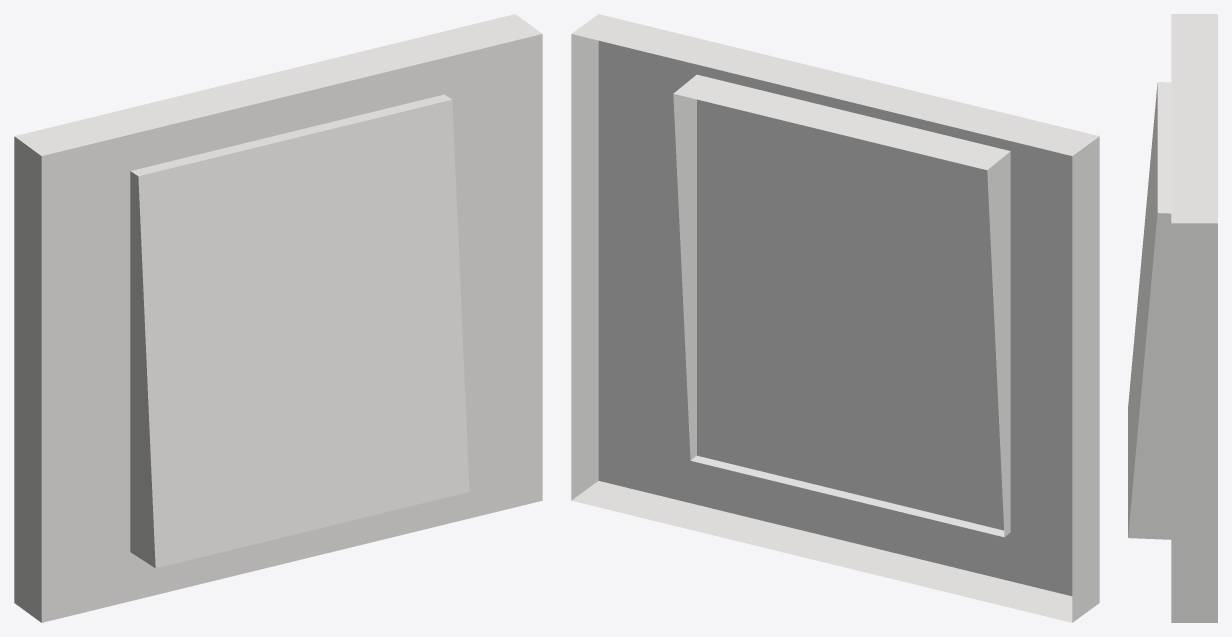
File: Switch_1.fbx
3 renders of one model, left to right at view 1: azimuth 30°, elevation 25°; view 2: azimuth 150°, elevation 25°; view 3: azimuth 270°, elevation 25°, orthographic. The views are drawn at different scales.
Parts seen in each view (by area): view 1: Switch_1; view 2: Switch_1; view 3: Switch_1.
Boxes of the visible parts, x1,y1,x2,y2 form: Switch_1: [14, 14, 542, 622]; Switch_1: [571, 14, 1099, 622]; Switch_1: [1128, 14, 1217, 622].
Bounding box in the file's own units: 15.2 × 2.75 × 13.53.
